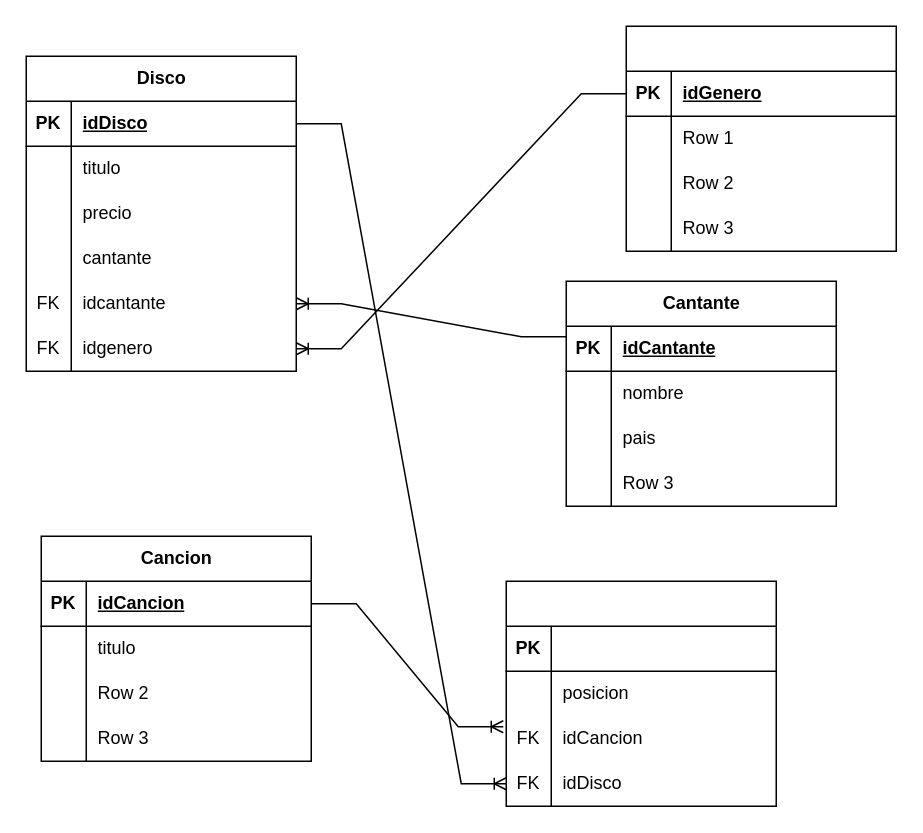
Image size: 923x833. Some labels were removed from this diagram. The box of each missing label's shape, as (x1, y1, x2, y2) in pixels:
Disco_Cancion: (505, 580, 776, 806)
GeneroMusica: (625, 25, 896, 251)
